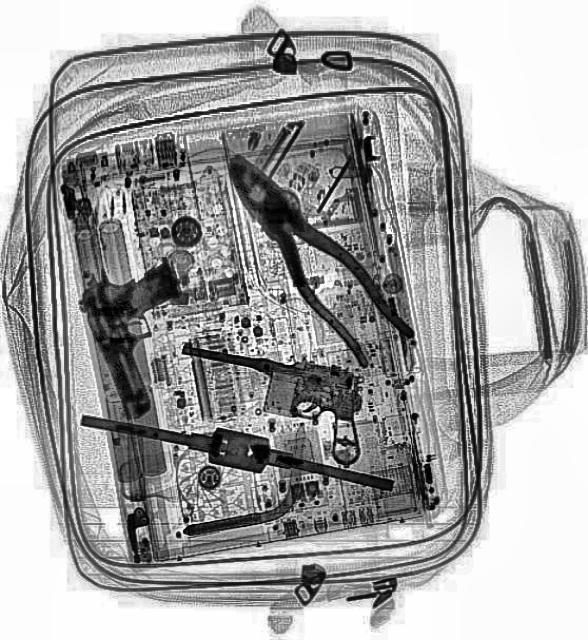Gun: (166, 336, 373, 466), (72, 253, 216, 421)
Pliers: (202, 133, 418, 374)
